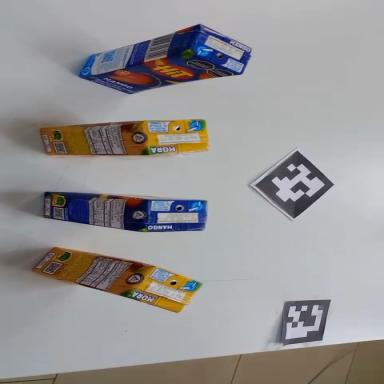HIT-MANGO: (75, 15, 255, 103), (42, 190, 208, 236)
HIT-MORA: (31, 240, 203, 316), (40, 119, 208, 156)
cara_F: (81, 45, 241, 103)
